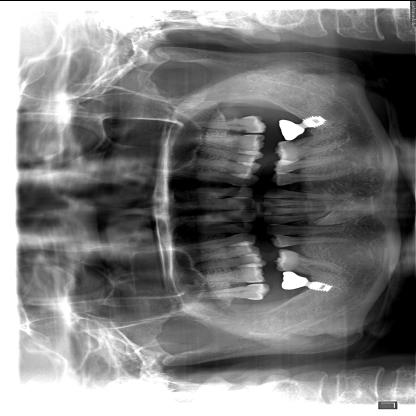Bicon: (303, 274, 339, 294), (298, 113, 328, 127)
